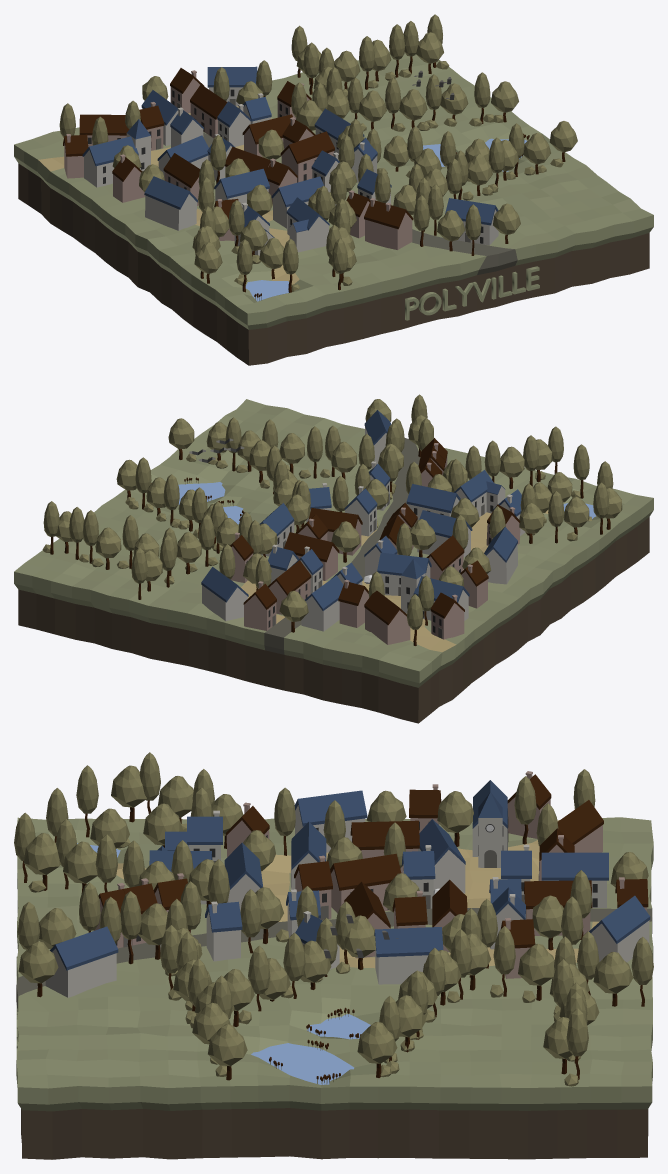
File: city3.glb
3 renders of one model, top to bottom at view 1: azimuth 30°, elevation 25°; view 2: azimuth 150°, elevation 25°; view 3: azimuth 270°, elevation 25°, orthographic. The views are drawn at different scales.
Parts seen in each view (by area): view 1: Object_19, Object_7, Object_22, Object_21, Object_26, Object_25, Object_23, Object_28, Object_27, Object_24, Object_12, Object_6 (+5 smaller); view 2: Object_19, Object_7, Object_21, Object_22, Object_26, Object_23, Object_25, Object_27, Object_28, Object_24, Object_12, Object_6 (+4 smaller); view 3: Object_19, Object_7, Object_22, Object_21, Object_26, Object_25, Object_23, Object_28, Object_27, Object_24, Object_6, Object_2 (+5 smaller).
Boxes of the visible parts, box(x1,y1,x2,y2) form: Object_19: box(14, 51, 653, 329); Object_7: box(18, 163, 649, 365); Object_22: box(125, 14, 550, 274); Object_21: box(112, 39, 577, 291); Object_26: box(82, 66, 498, 225); Object_25: box(63, 68, 413, 229); Object_23: box(59, 25, 528, 300); Object_28: box(84, 87, 498, 245); Object_27: box(64, 70, 412, 249); Object_24: box(200, 56, 565, 297); Object_12: box(203, 132, 517, 274); Object_6: box(38, 106, 338, 284); Object_19: box(14, 399, 653, 687); Object_7: box(18, 517, 649, 723); Object_21: box(42, 399, 622, 621); Object_22: box(43, 417, 613, 597); Object_26: box(201, 410, 517, 610); Object_23: box(131, 394, 564, 629); Object_25: box(230, 438, 520, 625); Object_27: box(230, 443, 520, 644); Object_28: box(202, 427, 517, 631); Object_24: box(50, 446, 610, 645); Object_12: box(264, 438, 420, 654); Object_6: box(240, 510, 548, 652); Object_19: box(16, 817, 653, 1111); Object_7: box(21, 1108, 648, 1159); Object_22: box(14, 752, 592, 1063); Object_21: box(18, 765, 648, 1086); Object_26: box(50, 780, 650, 970); Object_25: box(98, 774, 648, 948); Object_23: box(17, 769, 653, 1084); Object_28: box(45, 805, 649, 997); Object_27: box(93, 771, 646, 978); Object_24: box(22, 800, 644, 1081); Object_6: box(116, 820, 599, 968); Object_2: box(77, 843, 370, 1084).
Size of the model in its own units: 8.25 by 2.4 by 8.1.
